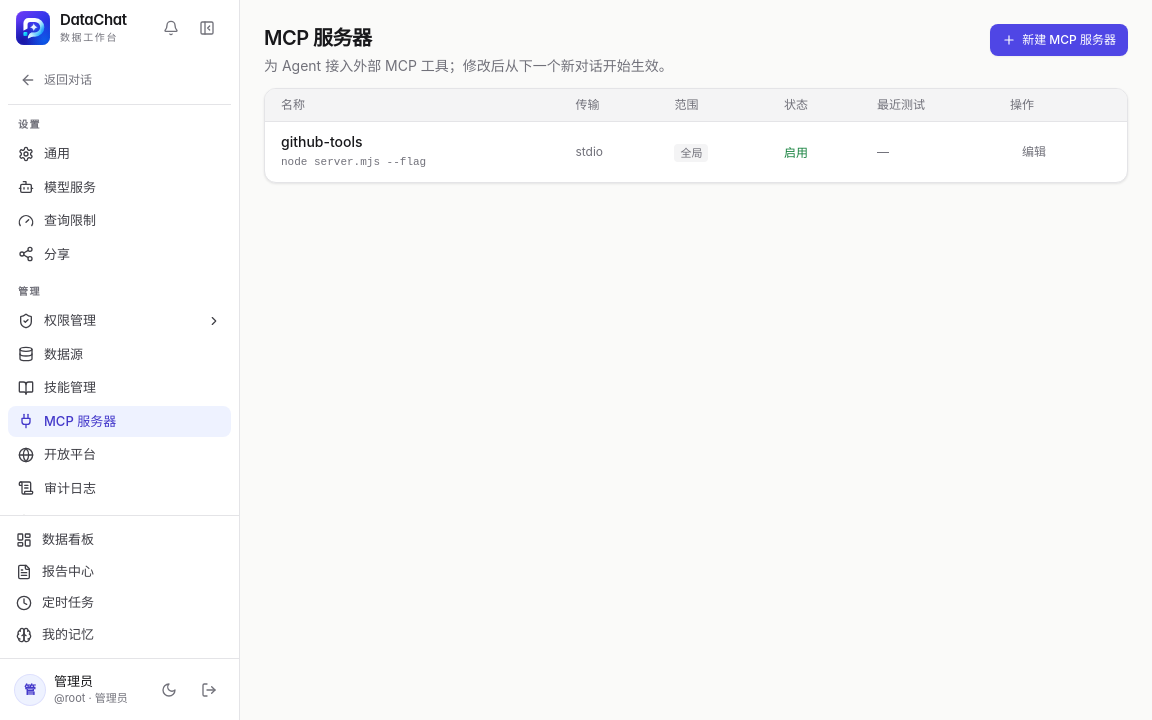
McpPage › renders the tool count and the first five tools after a connection test
This screenshot has width=1152, height=720.
Click the button "编辑": (1034, 152) 1010,136 -> 1058,168
(page scrolled)
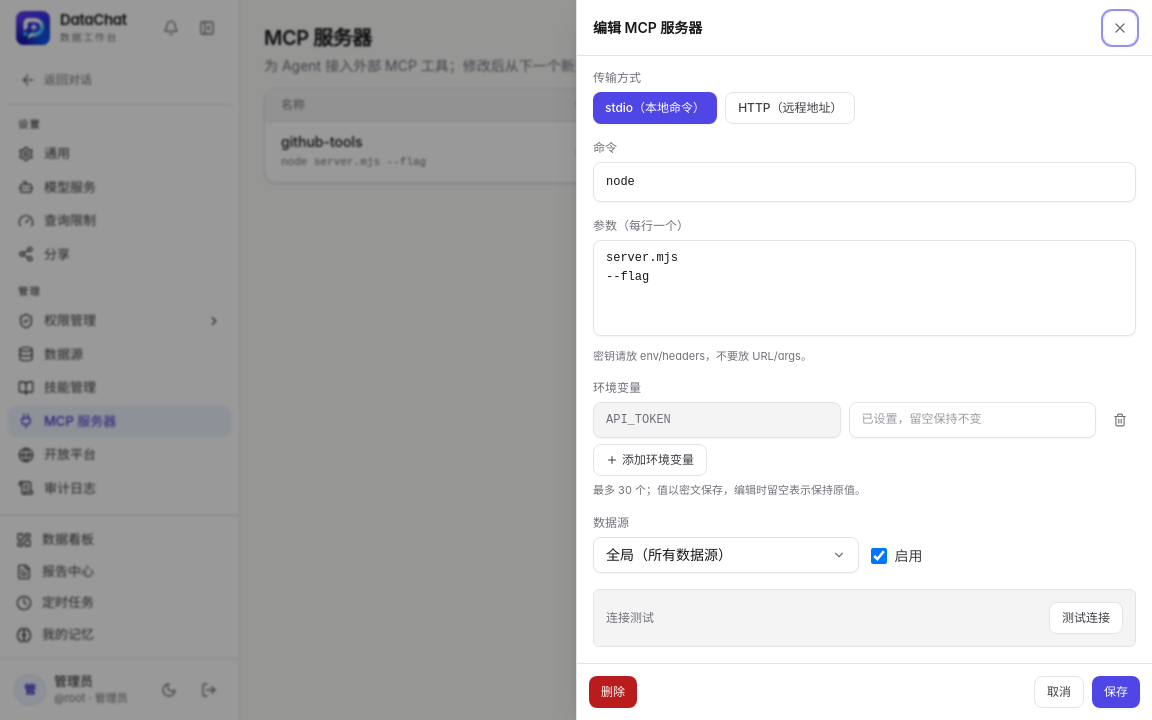
Click the button "测试连接": (1086, 618) 1049,602 -> 1123,634
(page scrolled)
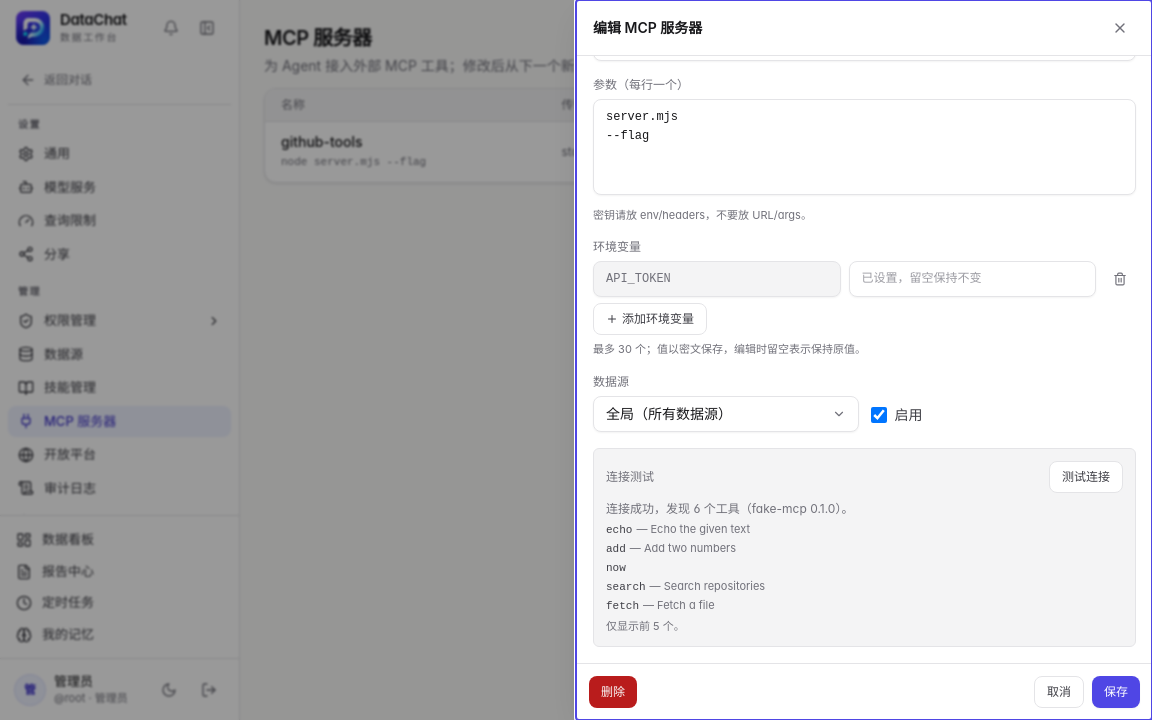
Now the text "连接成功，发现 6 个工具（fake-mcp 0.1.0）。" is shown, box 606,500 -> 853,516
Now the text "echo" is shown, box 606,524 -> 632,536
Now the text "add" is shown, box 606,542 -> 626,554
